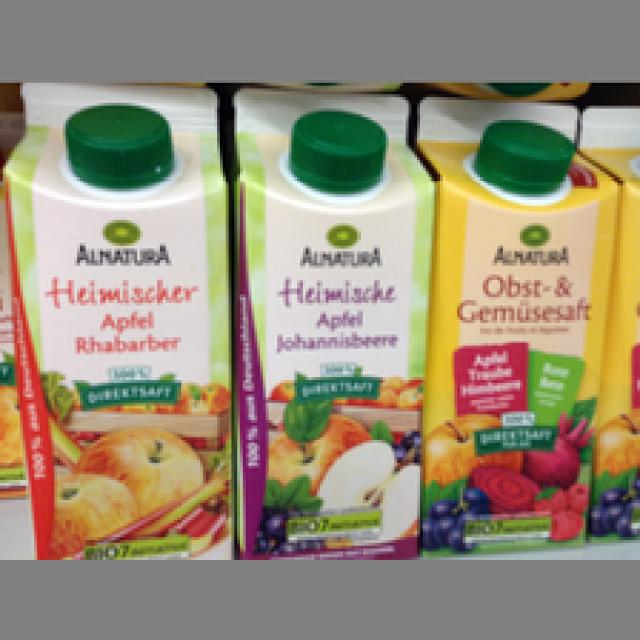groceries: (0, 79, 231, 554), (228, 83, 432, 557), (412, 94, 617, 549)
